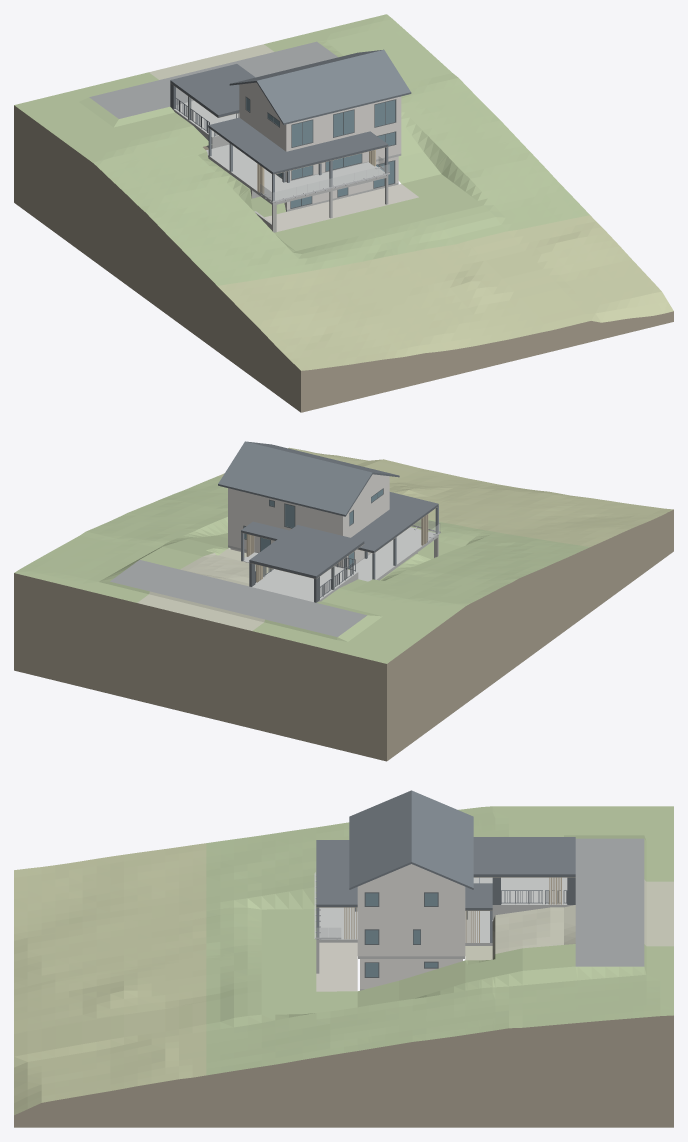
File: Schaffernak_Haus_B.glb
3 renders of one model, top to bottom at view 1: azimuth 30°, elevation 25°; view 2: azimuth 150°, elevation 25°; view 3: azimuth 270°, elevation 25°, orthographic. The views are drawn at different scales.
Visible parts, largest first — view 1: Foto_Gelaende_Rasen_Boeschung, Foto_Gelaende_Hang_unten, Foto_Gelaende_Modellrand, Satteldach_0, Strasse_parallel_zum_Haus_schematisch, Foto_Gelaende_Kies_Kellerbereich, Entwurf_Dach_vorne, Carport_Dach, Balkon_vorne, Foto_Gelaende_Seitliche_Gruenflaeche, Entwurf_Dach_links, Foto_Gelaende_Rueckseite (+3 smaller); view 2: Foto_Gelaende_Modellrand, Foto_Gelaende_Rasen_Boeschung, Foto_Gelaende_Hang_unten, Strasse_parallel_zum_Haus_schematisch, Satteldach_1, Foto_Gelaende_Rueckseite, Carport_Dach, Foto_Gelaende_Seitliche_Gruenflaeche, Carport_Boden, Entwurf_Dach_links, Balkon_links, OG_back_Wand0 (+5 smaller); view 3: Foto_Gelaende_Rasen_Boeschung, Foto_Gelaende_Modellrand, Foto_Gelaende_Hang_unten, Strasse_parallel_zum_Haus_schematisch, Foto_Gelaende_Rueckseite, Foto_Gelaende_Seitliche_Gruenflaeche, Satteldach_0, Satteldach_1, Carport_Dach, Entwurf_Dach_vorne, Foto_Gelaende_Kies_Kellerbereich, Carport_Boden (+9 smaller).
Part boxes in pixels (left/top/right/bottom): Foto_Gelaende_Rasen_Boeschung: left=14, top=14, right=589, bottom=285; Foto_Gelaende_Hang_unten: left=217, top=215, right=673, bottom=370; Foto_Gelaende_Modellrand: left=14, top=105, right=673, bottom=412; Satteldach_0: left=256, top=50, right=411, bottom=124; Strasse_parallel_zum_Haus_schematisch: left=89, top=41, right=337, bottom=118; Foto_Gelaende_Kies_Kellerbereich: left=265, top=184, right=418, bottom=231; Entwurf_Dach_vorne: left=255, top=131, right=388, bottom=174; Carport_Dach: left=171, top=64, right=254, bottom=114; Balkon_vorne: left=255, top=162, right=388, bottom=205; Foto_Gelaende_Seitliche_Gruenflaeche: left=264, top=34, right=440, bottom=183; Entwurf_Dach_links: left=208, top=117, right=285, bottom=160; Foto_Gelaende_Rueckseite: left=149, top=44, right=273, bottom=79; Foto_Gelaende_Modellrand: left=14, top=509, right=673, bottom=761; Foto_Gelaende_Rasen_Boeschung: left=14, top=476, right=589, bottom=663; Foto_Gelaende_Hang_unten: left=218, top=447, right=673, bottom=546; Strasse_parallel_zum_Haus_schematisch: left=110, top=560, right=366, bottom=636; Satteldach_1: left=218, top=441, right=372, bottom=516; Foto_Gelaende_Rueckseite: left=137, top=549, right=272, bottom=630; Carport_Dach: left=250, top=525, right=363, bottom=575; Foto_Gelaende_Seitliche_Gruenflaeche: left=97, top=533, right=229, bottom=602; Carport_Boden: left=252, top=569, right=352, bottom=602; Entwurf_Dach_links: left=351, top=509, right=420, bottom=552; Balkon_links: left=351, top=540, right=420, bottom=580; OG_back_Wand0: left=295, top=504, right=345, bottom=535; Foto_Gelaende_Rasen_Boeschung: left=206, top=806, right=673, bottom=1075; Foto_Gelaende_Modellrand: left=14, top=1015, right=673, bottom=1127; Foto_Gelaende_Hang_unten: left=14, top=843, right=206, bottom=1115; Strasse_parallel_zum_Haus_schematisch: left=575, top=838, right=644, bottom=966; Foto_Gelaende_Rueckseite: left=465, top=879, right=673, bottom=960; Foto_Gelaende_Seitliche_Gruenflaeche: left=357, top=944, right=673, bottom=1007; Satteldach_0: left=349, top=790, right=411, bottom=889; Satteldach_1: left=411, top=790, right=473, bottom=889; Carport_Dach: left=473, top=837, right=575, bottom=874; Entwurf_Dach_vorne: left=316, top=840, right=357, bottom=907; Foto_Gelaende_Kies_Kellerbereich: left=316, top=942, right=357, bottom=991; Carport_Boden: left=492, top=877, right=573, bottom=906.
Size of the model in its own units: 36 by 16.06 by 48.
